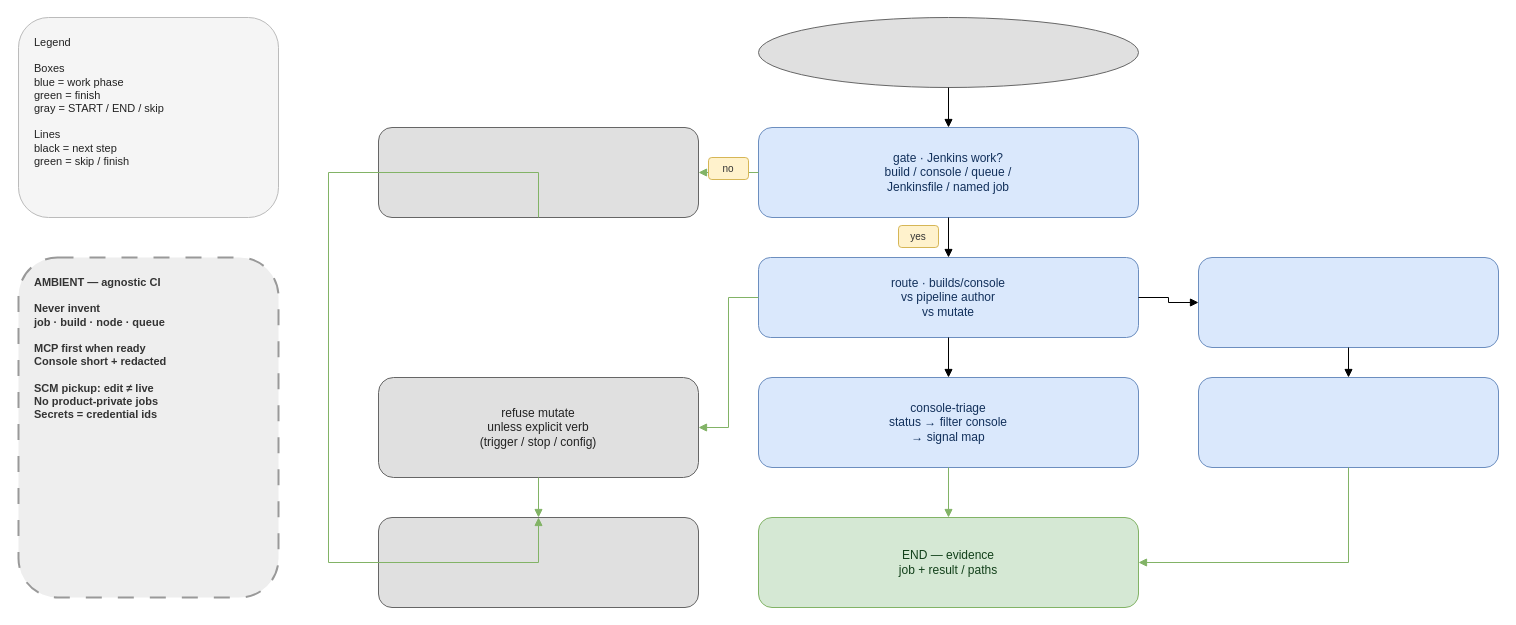
Image size: 1516x625. Some labels were removed from this diagram. Here are the shapes that lost their labels. From the top down, the centre of each, then its label:
pixel 948 52: START — user ask
pixel 538 172: skip — no Jenkins ask ordinary coding; do not trigger builds for sport
pixel 1348 302: pipeline-author Jenkinsfile craft + ci-from-main reminder
pixel 1348 422: verify build when asked fresh get_build
pixel 538 562: END — stay out
